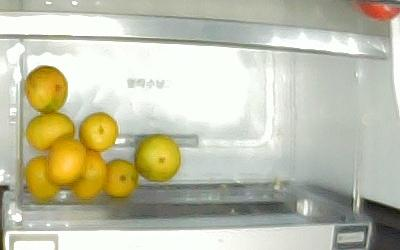tangerine: (135, 134, 181, 183), (46, 136, 87, 188), (25, 66, 68, 114), (26, 112, 75, 150), (78, 110, 117, 153), (74, 150, 107, 199), (25, 155, 59, 202), (102, 159, 138, 198)
